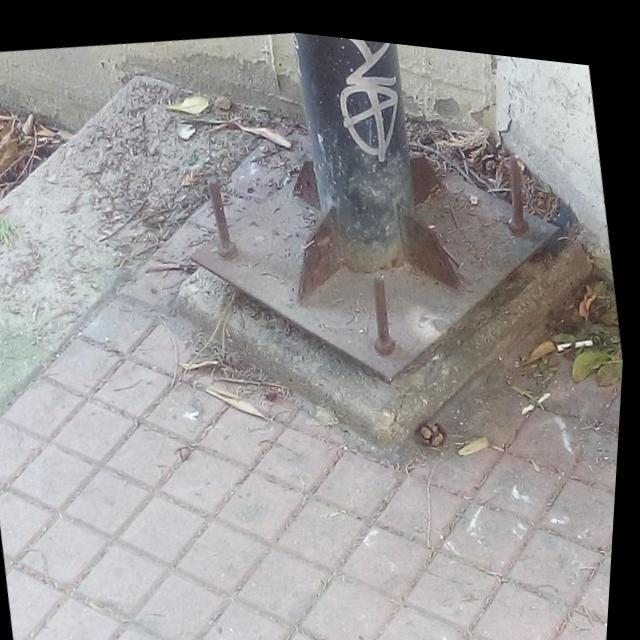-: (304, 28, 417, 166)
